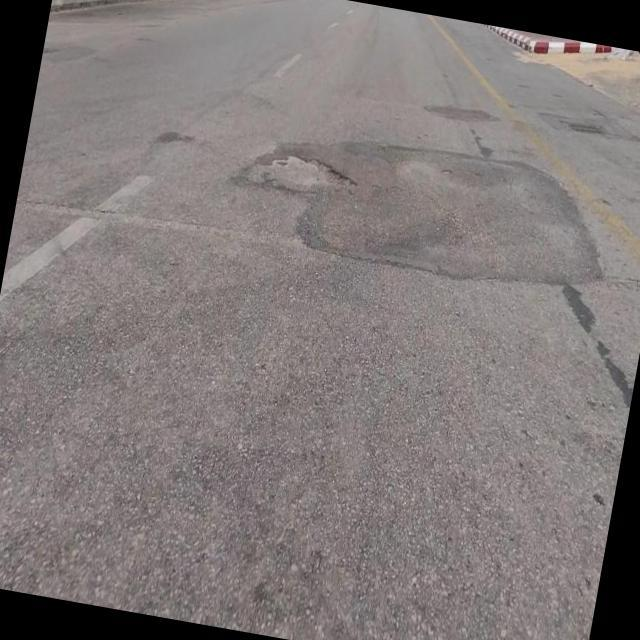Pothole: (269, 150, 356, 190)
